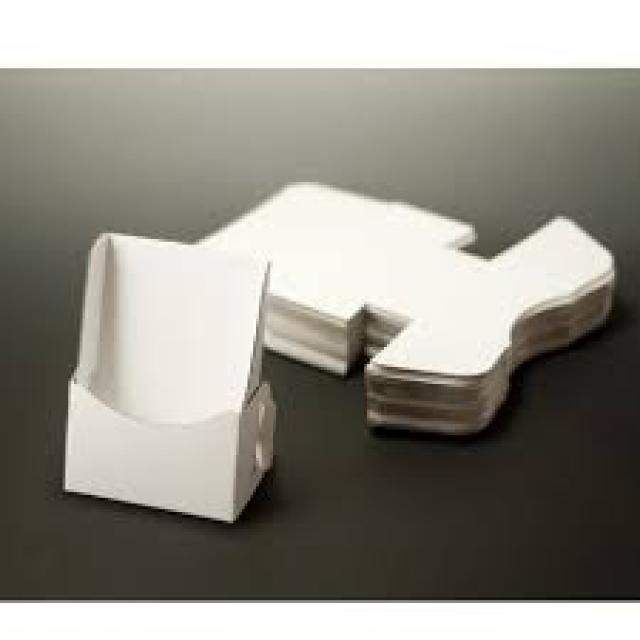cardboard: (194, 176, 612, 427), (57, 231, 273, 521)
